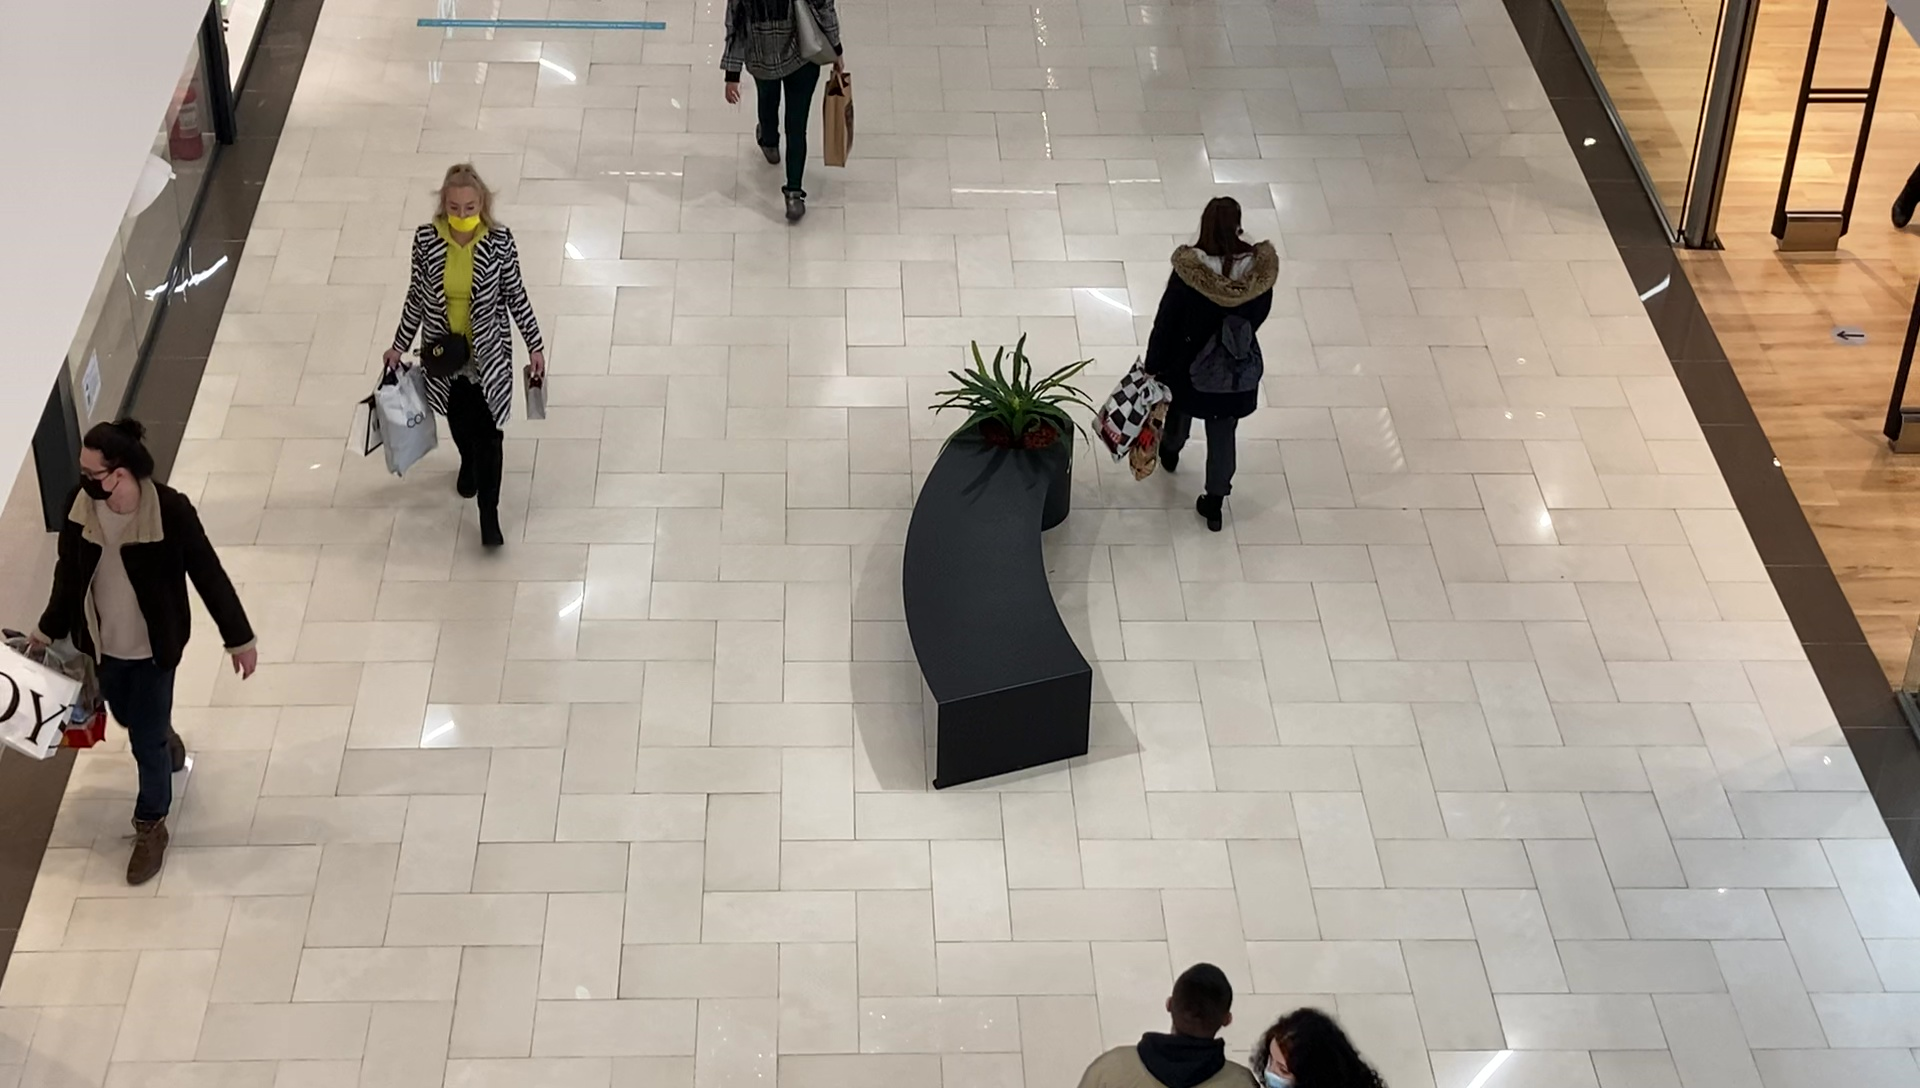person: (29, 422, 258, 887), (382, 166, 548, 552), (1147, 196, 1280, 532), (724, 1, 844, 221), (1075, 963, 1253, 1088)
